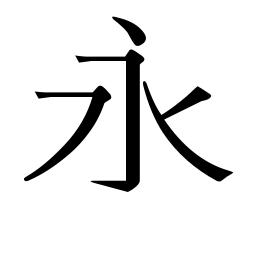D: (109, 13, 147, 45)
HSZ: (116, 48, 147, 73)
Hs: (73, 53, 96, 64)
Ne: (190, 154, 235, 184)
PNc: (149, 105, 175, 133)
PZe: (23, 160, 58, 183)
Ps: (184, 85, 212, 108)
SG: (89, 162, 143, 196)
Sm: (122, 110, 143, 151)
TPZ: (81, 84, 113, 117)
Ts: (33, 88, 60, 102)
